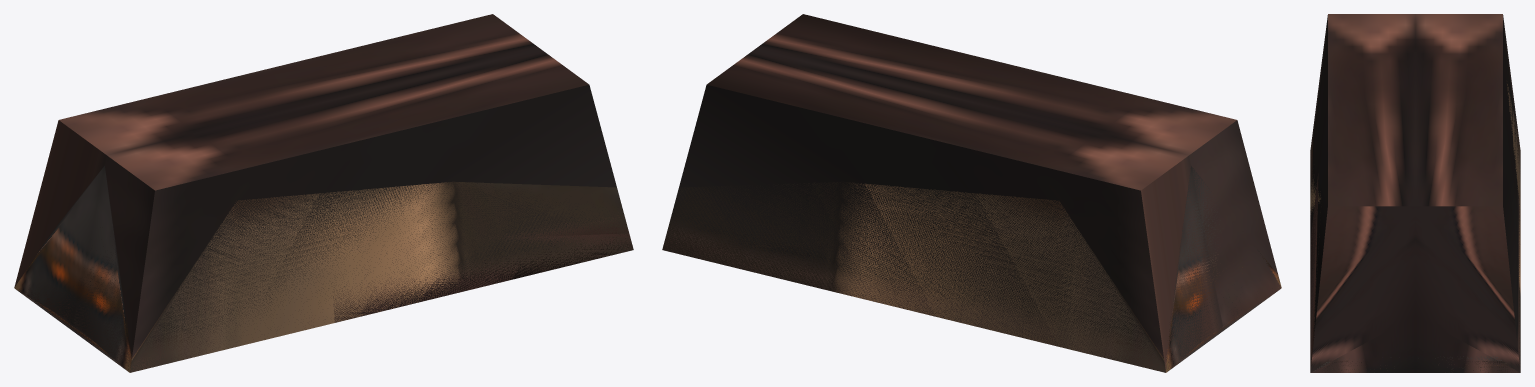
Rendered from 23_sword_morph_fbx.FBX.
3 renders of one model, left to right at view 1: azimuth 30°, elevation 25°; view 2: azimuth 150°, elevation 25°; view 3: azimuth 270°, elevation 25°, orthographic. The views are drawn at different scales.
Parts seen in each view (by area): view 1: 23_sword; view 2: 23_sword; view 3: 23_sword.
Part boxes in pixels (<box>): 23_sword: <box>14,14,633,372</box>; 23_sword: <box>662,14,1281,372</box>; 23_sword: <box>1310,14,1520,372</box>.
Bounding box in the file's own units: 30.8 × 9.75 × 12.26.
